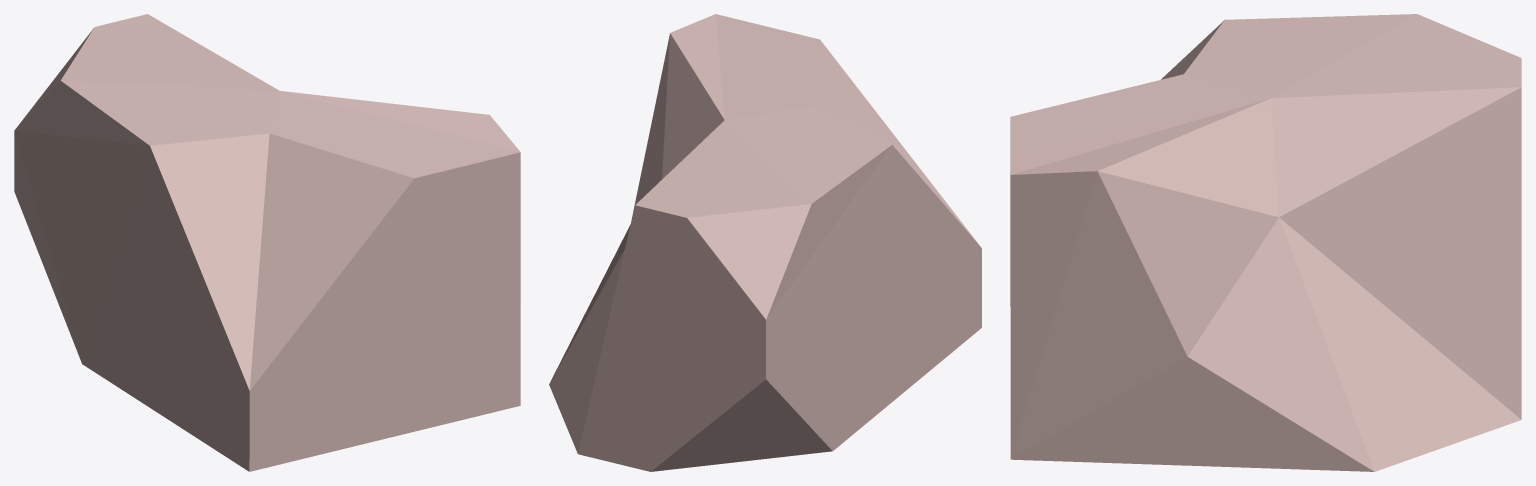
3 views of the same model, side by side, from view 1: azimuth 30°, elevation 25°; view 2: azimuth 150°, elevation 25°; view 3: azimuth 270°, elevation 25° (orthographic). The views are drawn at different scales.
Parts seen in each view (by area): view 1: Object33; view 2: Object33; view 3: Object33.
Boxes of the visible parts, x1,y1,x2,y2 form: Object33: [14, 14, 520, 471]; Object33: [549, 14, 981, 471]; Object33: [1010, 14, 1521, 471].
Bounding box in the file's own units: 11802 × 10537 × 16234.
